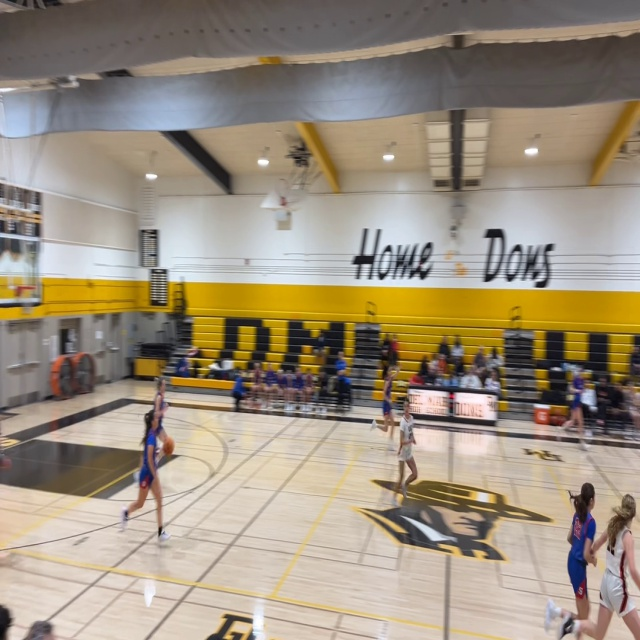Basketball: (162, 436, 175, 455)
